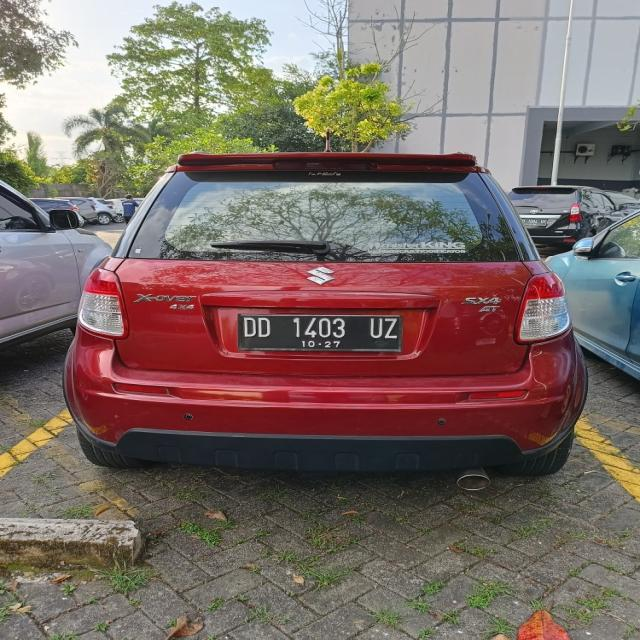plates: (239, 301, 401, 352)
